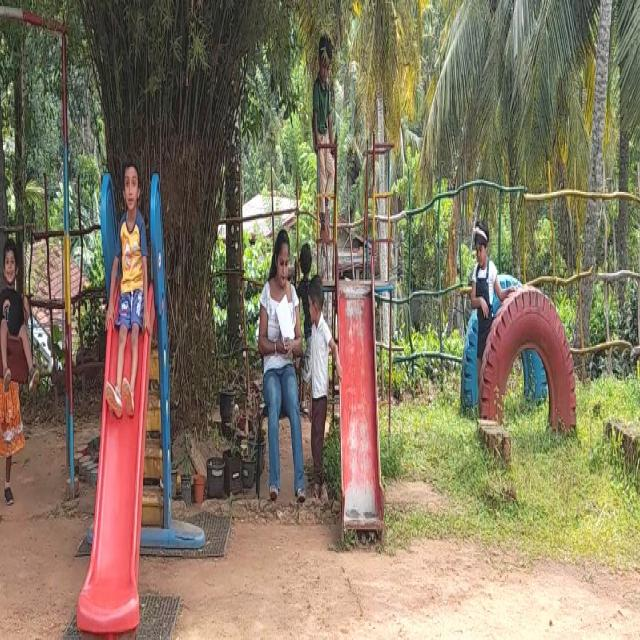adult: (254, 205, 302, 519)
child: (106, 149, 144, 430), (0, 235, 27, 510), (306, 269, 332, 511), (312, 19, 339, 240), (466, 195, 499, 373)
